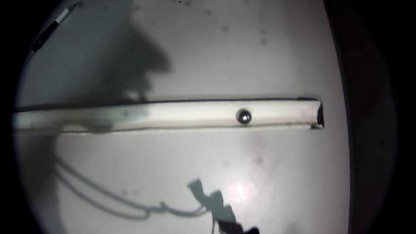gangzhu: (236, 109, 252, 125)
